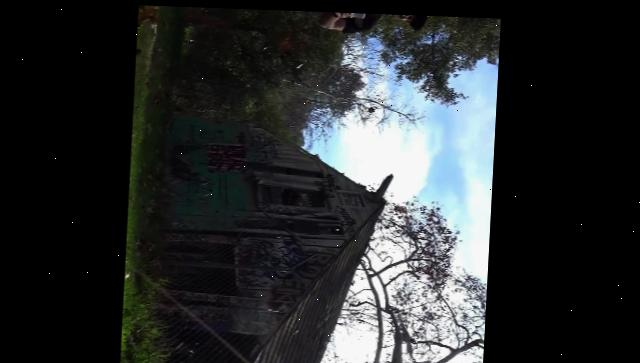drone: (354, 320, 452, 363)
